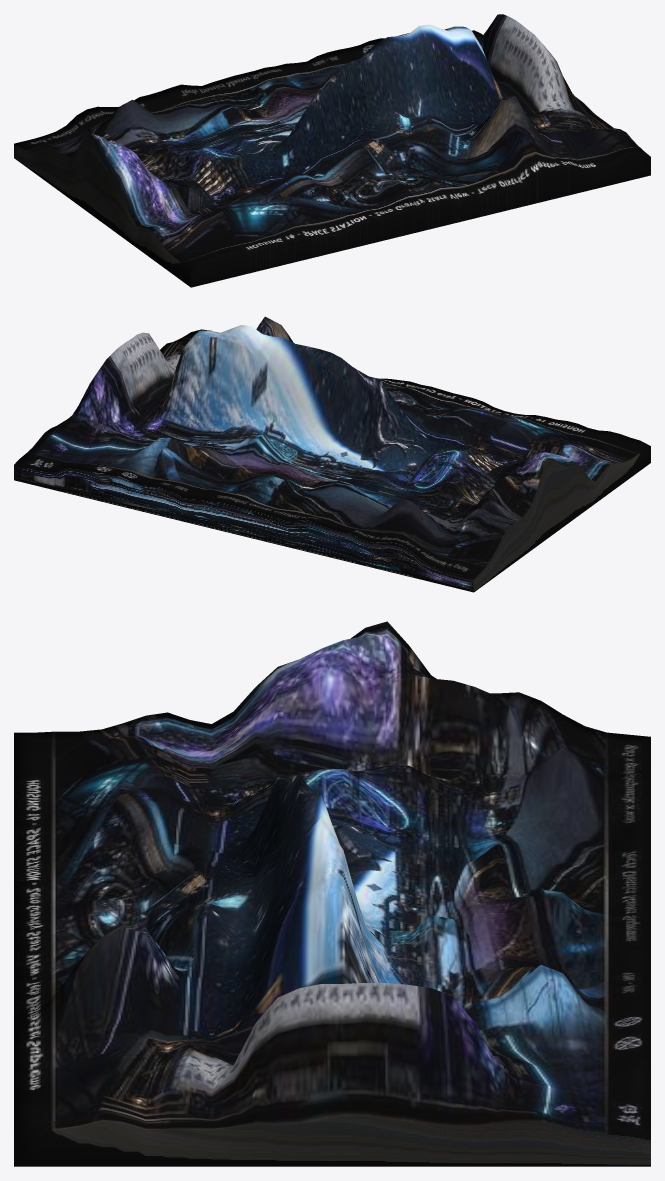
File: HOUSING_16_Space_Station.glb
The picture shows the model from 3 angles, top to bottom: view 1: azimuth 30°, elevation 25°; view 2: azimuth 150°, elevation 25°; view 3: azimuth 270°, elevation 25°; orthographic projection. The views are drawn at different scales.
Parts seen in each view (by area): view 1: HOUSING_16_Space_Station; view 2: HOUSING_16_Space_Station; view 3: HOUSING_16_Space_Station.
Boxes of the visible parts, x1,y1,x2,y2 form: HOUSING_16_Space_Station: (14,14,650,287); HOUSING_16_Space_Station: (14,316,650,592); HOUSING_16_Space_Station: (14,621,650,1166).
Bounding box in the file's own units: 2 × 0.51 × 1.33.
Materials: 1 (1 with a texture image).
